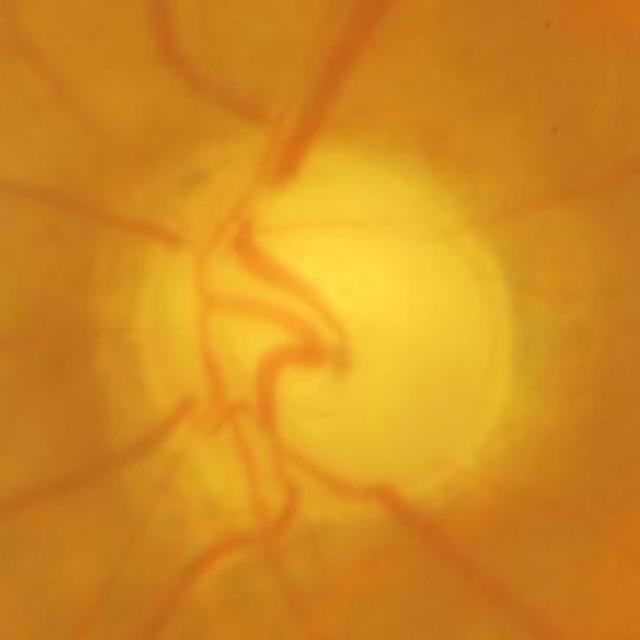OC: (221, 232, 384, 393)
OD: (139, 122, 526, 521)
